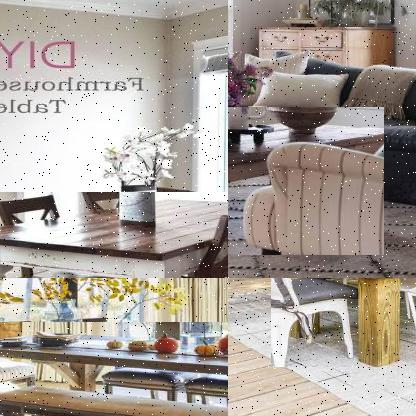table: (228, 107, 385, 257), (0, 322, 227, 415), (0, 192, 227, 277), (270, 278, 415, 370)
